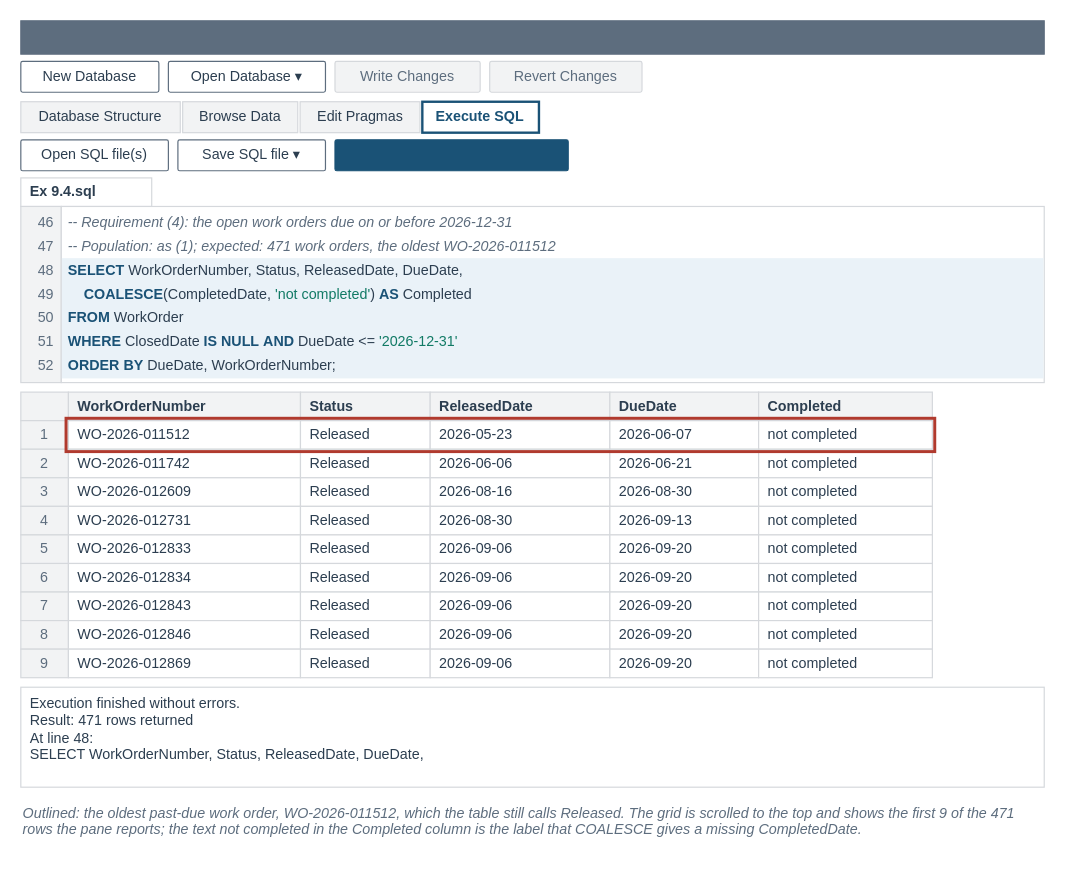
The diagram is 1065 pixels wide and 870 high, and some of its shapes have lost their labels. The box of each missing label's shape, as (x1, y1, x2, y2) in pixels:
DB Browser for SQLite - C:\Users\you\Documents\CharlesRiver_Work.sqlite: (20, 20, 1044, 54)
▶ Execute all/selected SQL: (334, 139, 568, 171)
